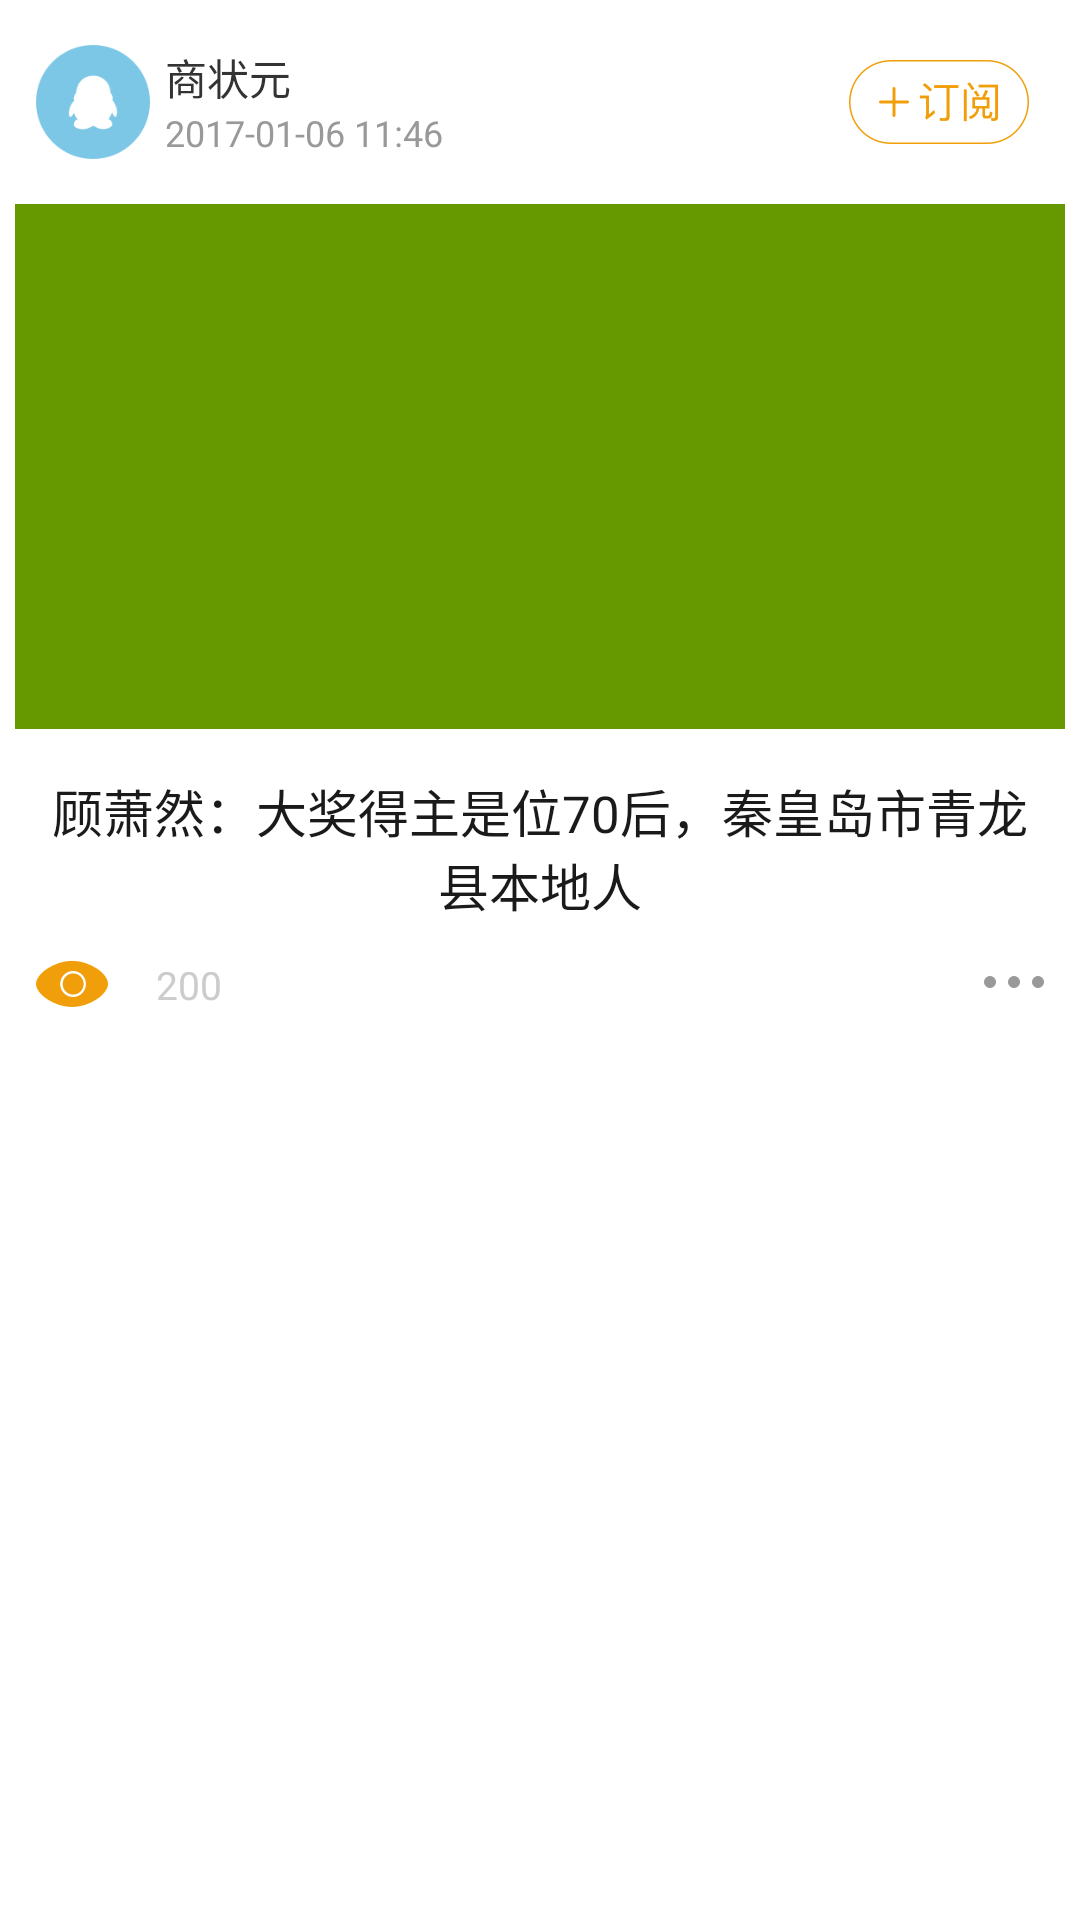

Icon bounding boxes for this 1080 x 1920 phone screenshot, format (x1, y1, x2, y2):
readcount: (36, 961, 108, 1007)
